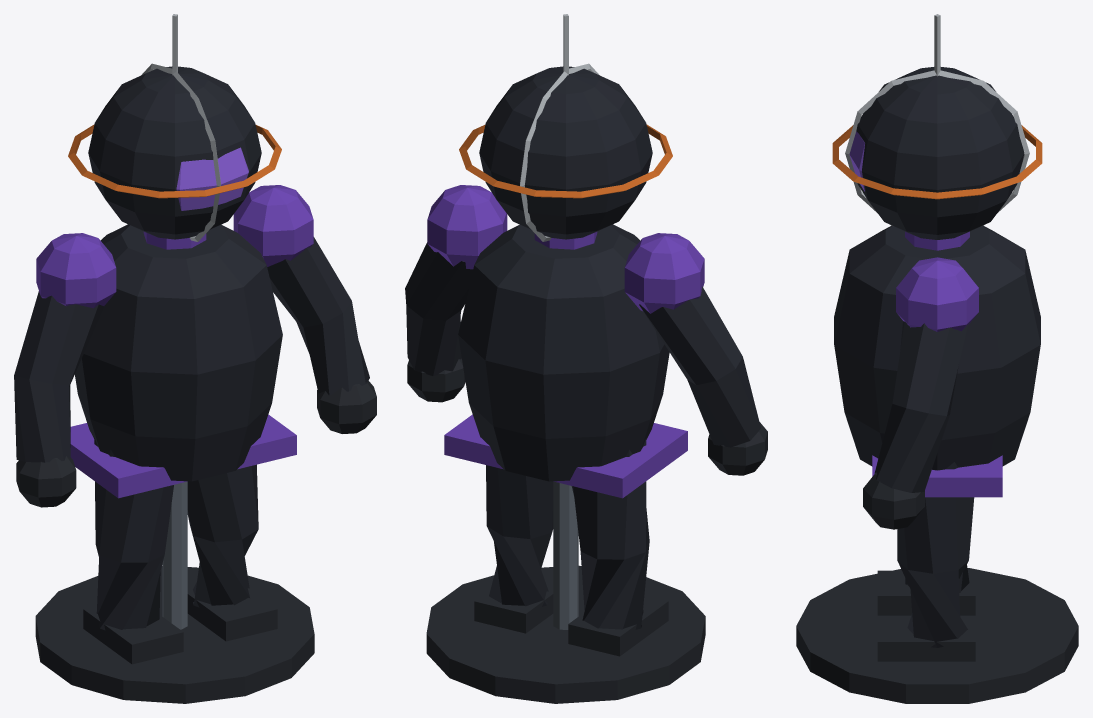
The model's file is mind-shielding-suit.glb.
3 views of the same model, side by side, from view 1: azimuth 30°, elevation 25°; view 2: azimuth 150°, elevation 25°; view 3: azimuth 270°, elevation 25° (orthographic).
Visible parts, largest first — view 1: m; view 2: m; view 3: m.
Part boxes in pixels (left/top/right/bottom): m: left=14, top=14, right=376, bottom=703; m: left=405, top=14, right=767, bottom=703; m: left=796, top=14, right=1078, bottom=703.
Size of the model in its own units: 0.3299 by 0.56 by 0.2275.
